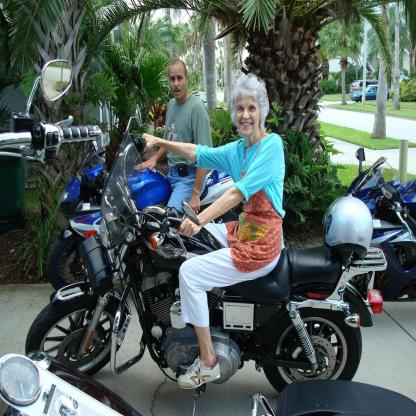Helmet: (322, 198, 375, 269)
